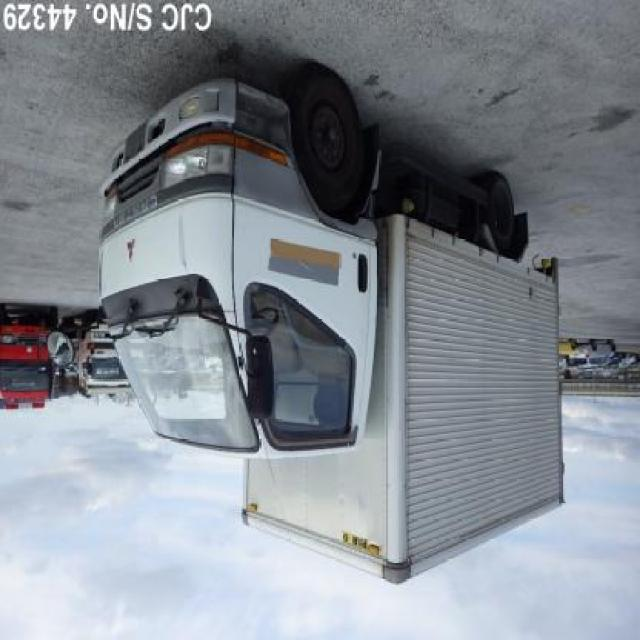truck: (98, 66, 566, 588)
